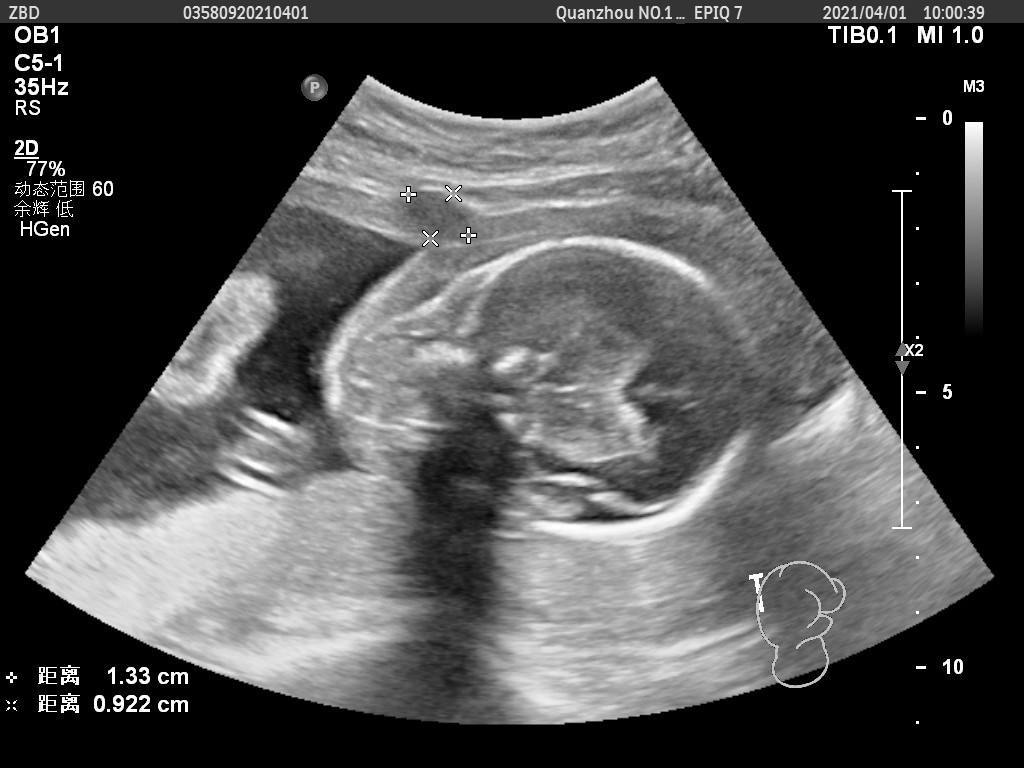肌瘤: (406, 191, 473, 240)
